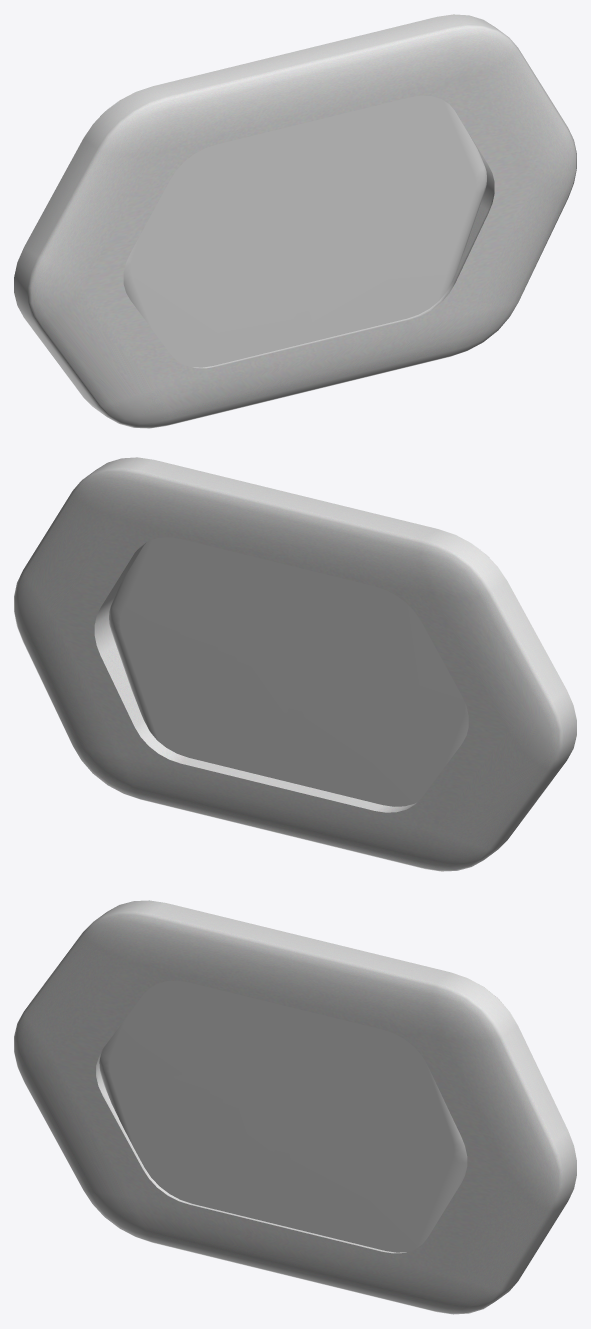
The model's file is frontdoor.fbx.
3 renders of one model, top to bottom at view 1: azimuth 30°, elevation 25°; view 2: azimuth 150°, elevation 25°; view 3: azimuth 330°, elevation 25°, orthographic.
Parts seen in each view (by area): view 1: front_wall, pCube3; view 2: front_wall, pCube3; view 3: front_wall, pCube3.
Boxes of the visible parts, left/top/right/bottom form: front_wall: left=14, top=14, right=576, bottom=428; pCube3: left=123, top=95, right=486, bottom=367; front_wall: left=14, top=457, right=576, bottom=871; pCube3: left=109, top=537, right=468, bottom=806; front_wall: left=14, top=900, right=576, bottom=1314; pCube3: left=99, top=980, right=467, bottom=1252.
Bounding box in the file's own units: 6.98 × 4 × 0.6063.
2 materials, 1 textured.
